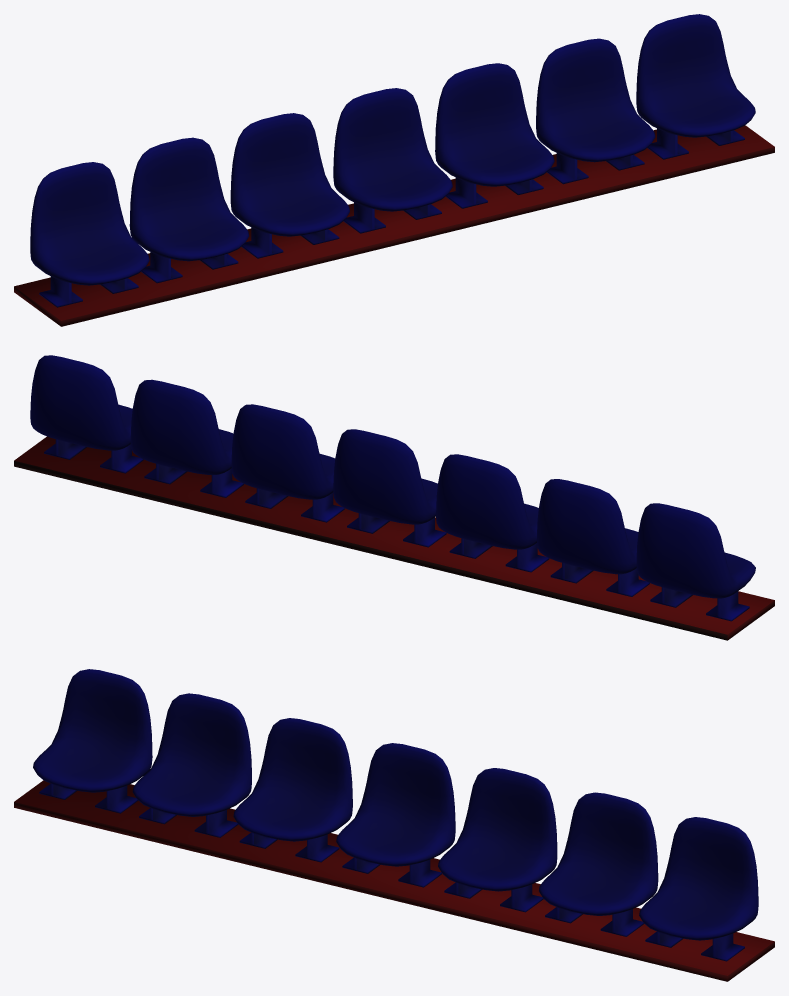
The model's file is furnishings-chairs-bleecher_v1.fbx.
3 renders of one model, top to bottom at view 1: azimuth 30°, elevation 25°; view 2: azimuth 150°, elevation 25°; view 3: azimuth 330°, elevation 25°, orthographic.
Visible parts, largest first — view 1: Bleecher_color12, Bleecher_woodbase, Bleecher_refl9; view 2: Bleecher_color12, Bleecher_woodbase, Bleecher_refl9; view 3: Bleecher_color12, Bleecher_woodbase, Bleecher_refl9.
Boxes of the visible parts, x1,y1,x2,y2 form: Bleecher_color12: (30,14,755,285); Bleecher_woodbase: (14,125,774,326); Bleecher_refl9: (39,128,744,307); Bleecher_color12: (30,355,755,598); Bleecher_woodbase: (14,436,774,640); Bleecher_refl9: (44,439,749,621); Bleecher_color12: (33,669,758,940); Bleecher_woodbase: (14,780,774,981); Bleecher_refl9: (39,783,744,961).
Bounding box in the file's own units: 5.42 × 0.8477 × 0.6682.
